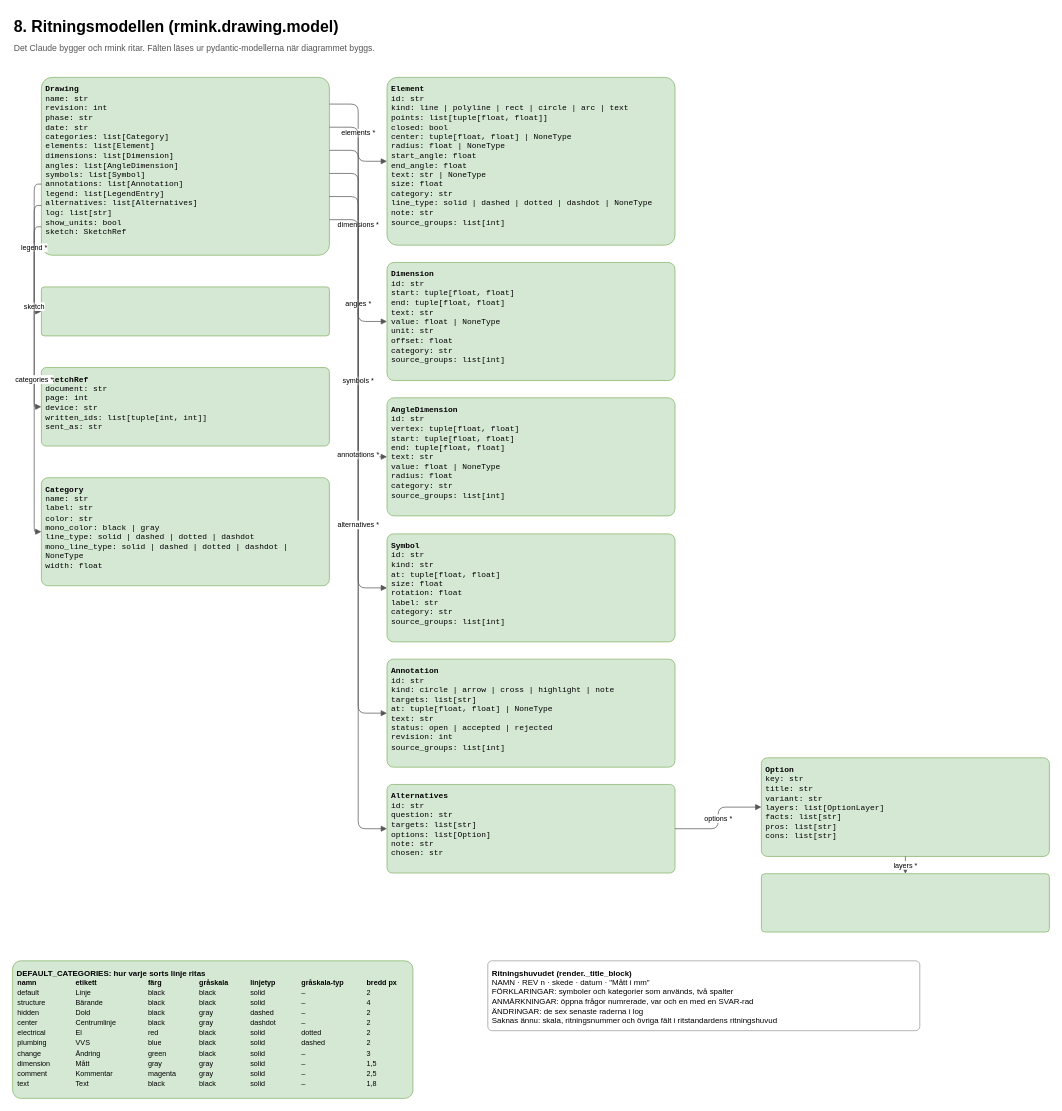
Image size: 1062x1111. Some labels were removed from this diagram. Here are the shapes that lost their labels. From the top down, the box of each, then its label:
(41, 286, 329, 336): LegendEntry key: str meaning: str
(761, 873, 1049, 932): OptionLayer text: str thickness_mm: float material: str
